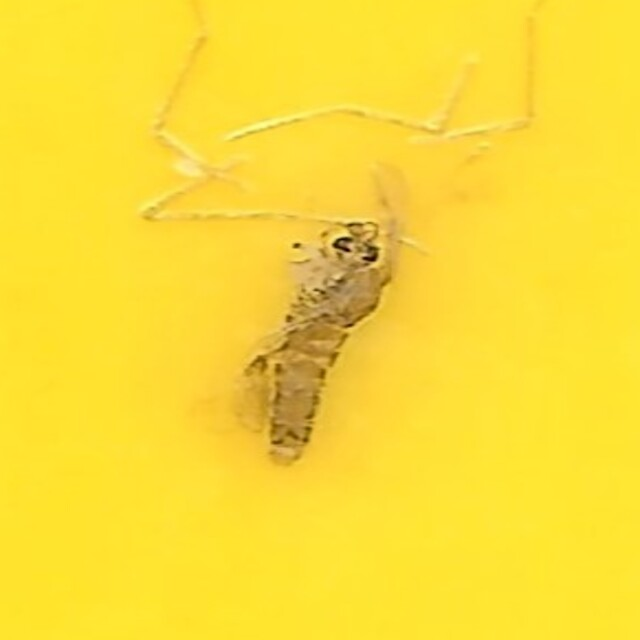Nematocera: (220, 165, 420, 475)
